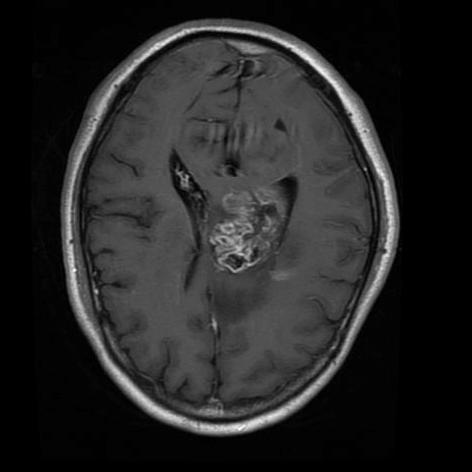Tumour-Glioma: (203, 190, 297, 282)
